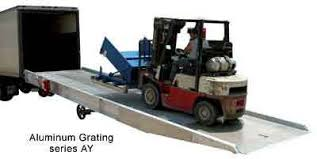Pallet Jack: (94, 15, 250, 126)
Yard Ramp: (24, 66, 312, 155)
